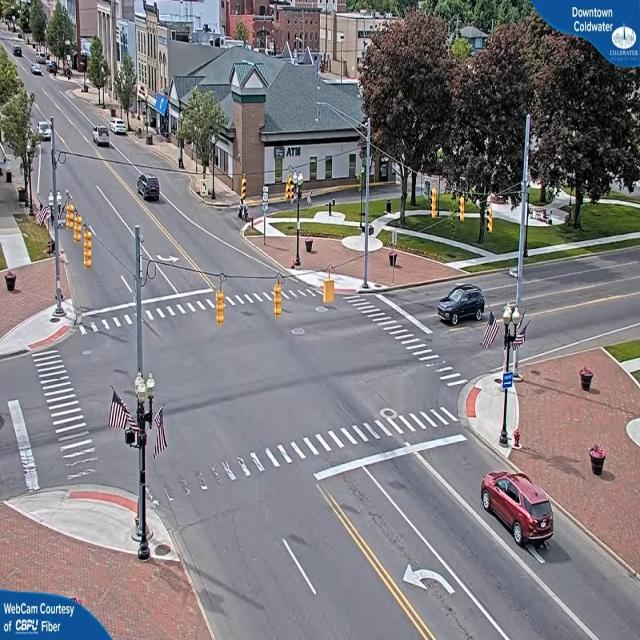car: (479, 472, 555, 544), (438, 282, 488, 326), (136, 176, 161, 204), (92, 126, 111, 147), (38, 121, 54, 142), (111, 120, 129, 137), (31, 64, 42, 76), (14, 47, 24, 58)
